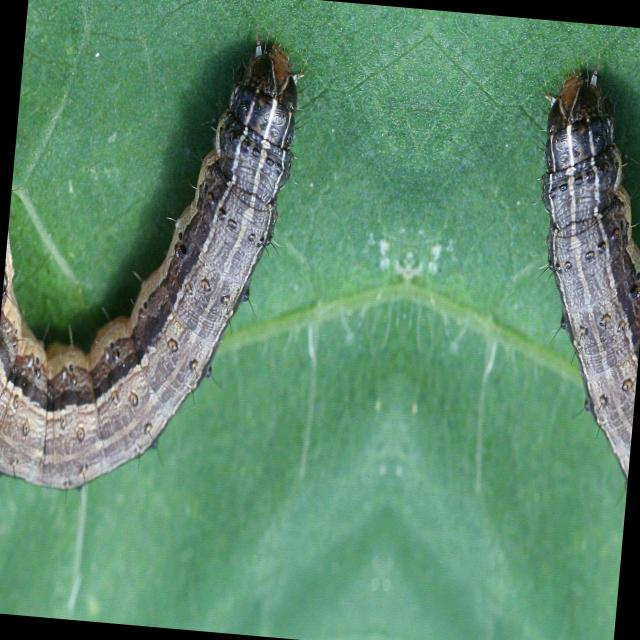Armyworm: (1, 10, 355, 539), (498, 49, 640, 514)
